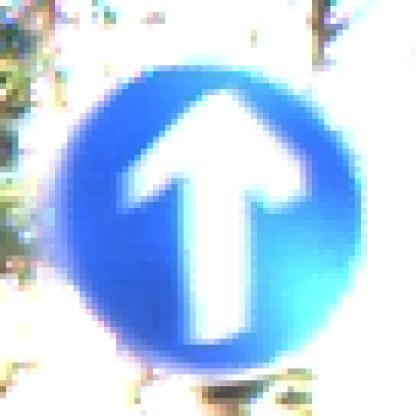AheadOnly: (44, 43, 380, 381)
